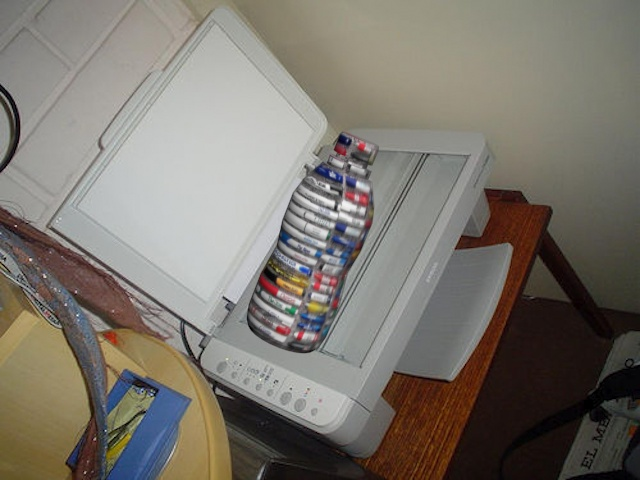bottle: (241, 128, 385, 360)
